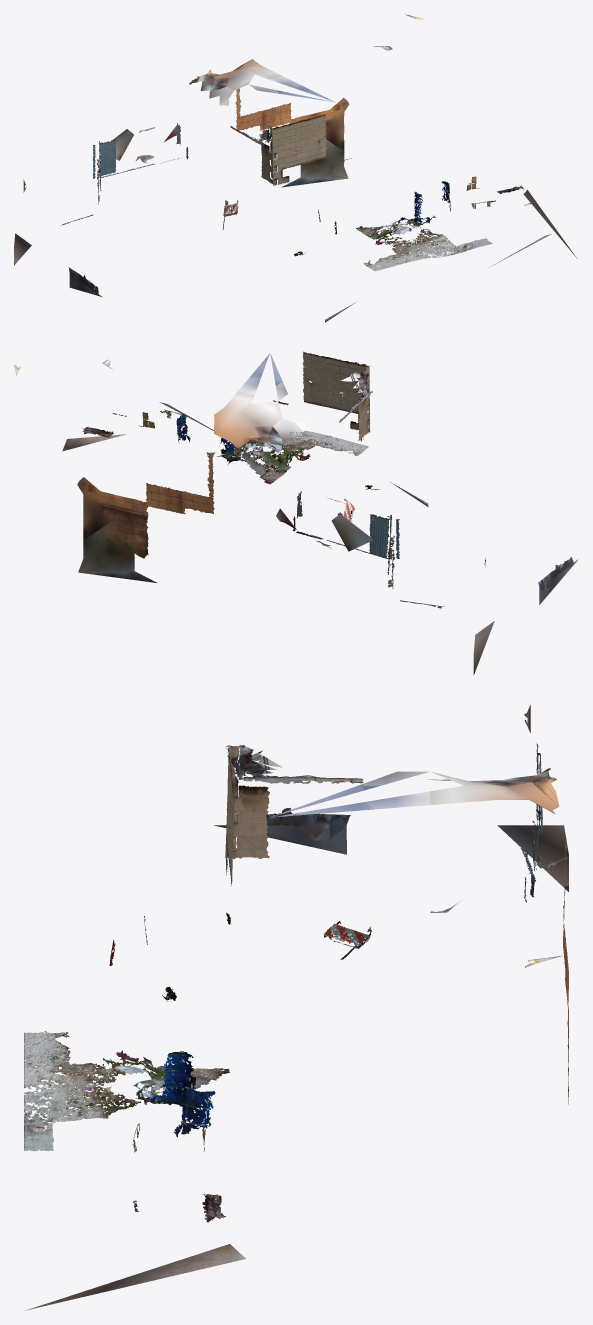
3 renders of one model, top to bottom at view 1: azimuth 30°, elevation 25°; view 2: azimuth 150°, elevation 25°; view 3: azimuth 270°, elevation 25°, orthographic. The views are drawn at different scales.
Size of the model in its own units: 11.17 by 3.93 by 6.15.
1 material, 1 textured.
